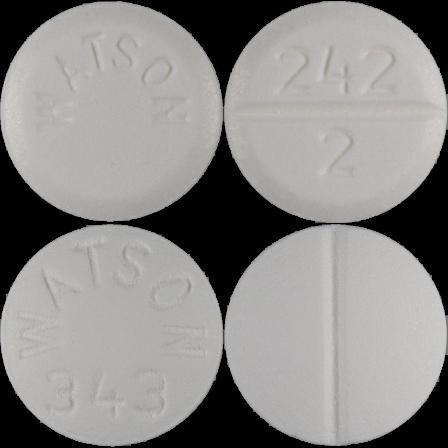0591-0242: (0, 0, 224, 224)
